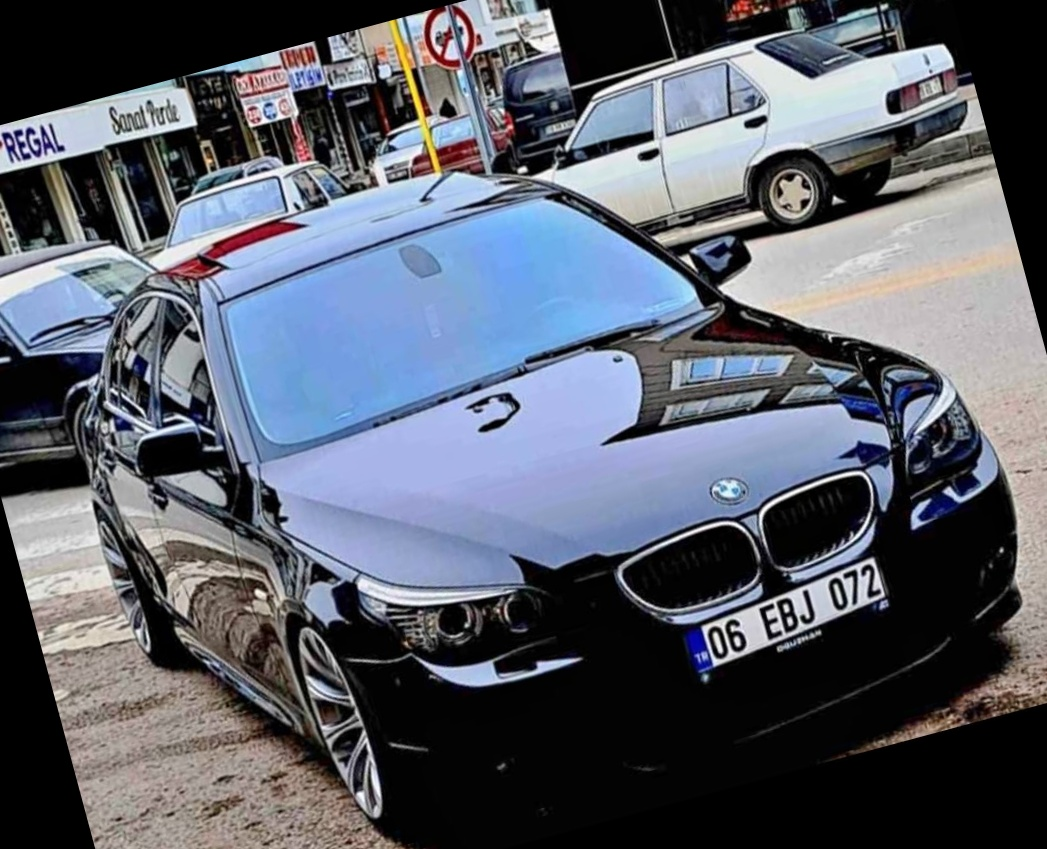plaka: (699, 548, 891, 662)
